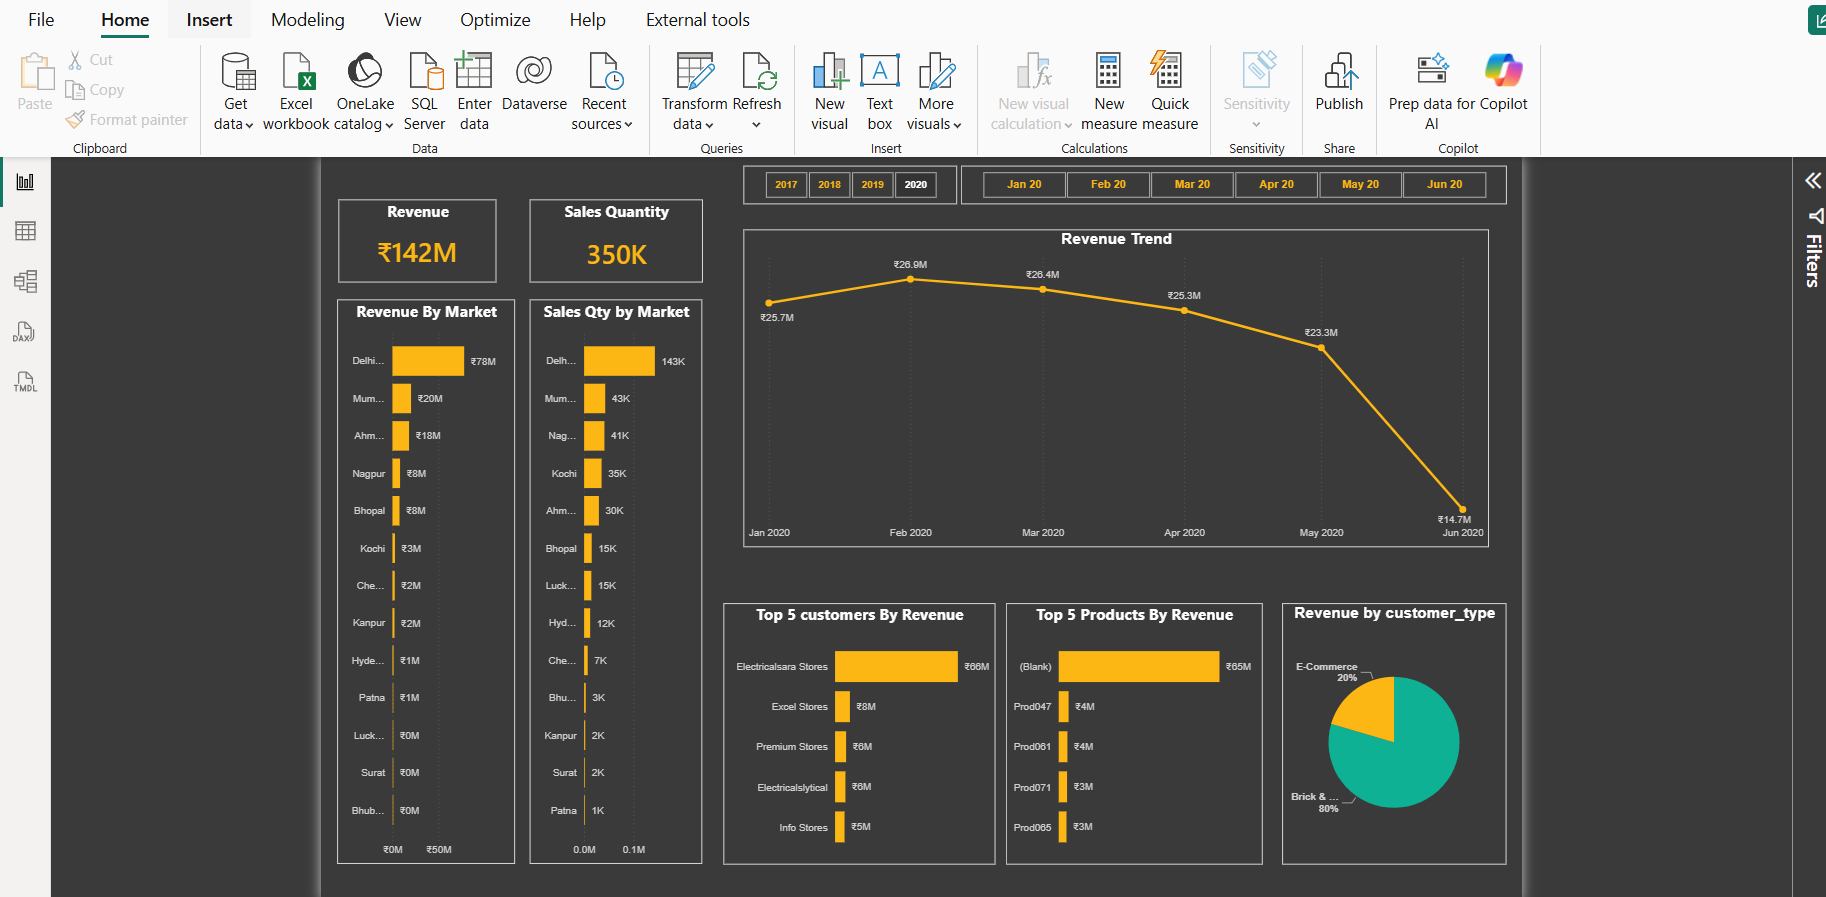

The dashboard page shown, as its layout file describes it:
{"tool":"powerbi","page":{"name":"Key Insights","canvas":[1450,900],"ordinal":0},"visuals":[{"type":"cardVisual","title":"Revenue","fields":{"Data":["MEASURES (2).Revenue"]},"box":[20.6,50.8,190.7,100.2],"z":0},{"type":"cardVisual","title":"Sales Quantity","fields":{"Data":["MEASURES (2).Sales Qty"]},"box":[251.1,50.8,208.6,100.2],"z":1000},{"type":"barChart","title":"Revenue By Market","fields":{"Category":["sales markets.markets_name"],"Y":["MEASURES (2).Revenue"]},"box":[20.2,172.5,214.5,680.9],"z":2000},{"type":"barChart","title":"Sales Qty by Market","fields":{"Category":["sales markets.markets_name"],"Y":["MEASURES (2).Sales Qty"]},"box":[251.8,172.5,208.3,680.9],"z":3000},{"type":"slicer","fields":{"Values":["sales date.year"]},"box":[510.2,9.9,257.9,46.5],"z":4000},{"type":"slicer","fields":{"Values":["sales date.cy_date"]},"box":[772.4,9.9,658.2,46.5],"z":5000},{"type":"barChart","title":"Top 5 customers By Revenue","fields":{"Category":["sales customers.custmer_name"],"Y":["MEASURES (2).Revenue"]},"box":[485,537.8,328,315.6],"z":6000},{"type":"barChart","title":"Top 5 Products By Revenue","fields":{"Category":["sales products.product_code"],"Y":["MEASURES (2).Revenue"]},"box":[827,537.8,309.3,315.6],"z":7000},{"type":"lineChart","title":"Revenue Trend","fields":{"Category":["sales date.cy_date"],"Y":["MEASURES (2).Revenue"]},"box":[510.2,87.4,899.2,383.4],"z":8000},{"type":"pieChart","fields":{"Category":["sales customers.customer_type"],"Y":["MEASURES (2).Revenue"]},"box":[1159.6,537.8,270.5,315.6],"z":9000}]}

Visuals, with their boxes on the page's 1450x900 design canvas (x1, y1, x2, y2). These are canvas units, not pixel positions in the 1826x897 screenshot, which may show the page scaled, cropped or inside an application window:
"Revenue" cardVisual: crop(21, 51, 211, 151)
"Sales Quantity" cardVisual: crop(251, 51, 460, 151)
"Revenue By Market" barChart: crop(20, 172, 235, 853)
"Sales Qty by Market" barChart: crop(252, 172, 460, 853)
slicer - sales date.year: crop(510, 10, 768, 56)
slicer - sales date.cy_date: crop(772, 10, 1431, 56)
"Top 5 customers By Revenue" barChart: crop(485, 538, 813, 853)
"Top 5 Products By Revenue" barChart: crop(827, 538, 1136, 853)
"Revenue Trend" lineChart: crop(510, 87, 1409, 471)
pieChart - sales customers.customer_type x MEASURES (2).Revenue: crop(1160, 538, 1430, 853)
